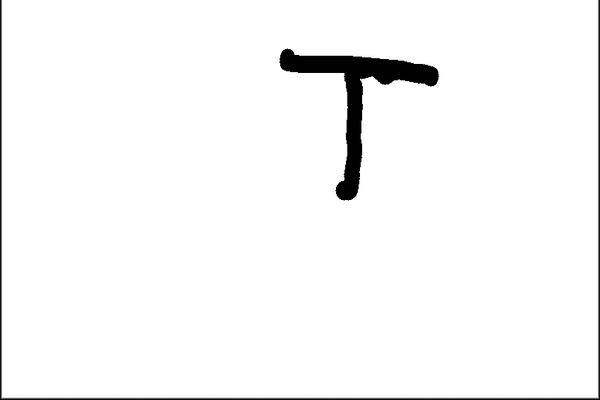T: (269, 40, 441, 203)
